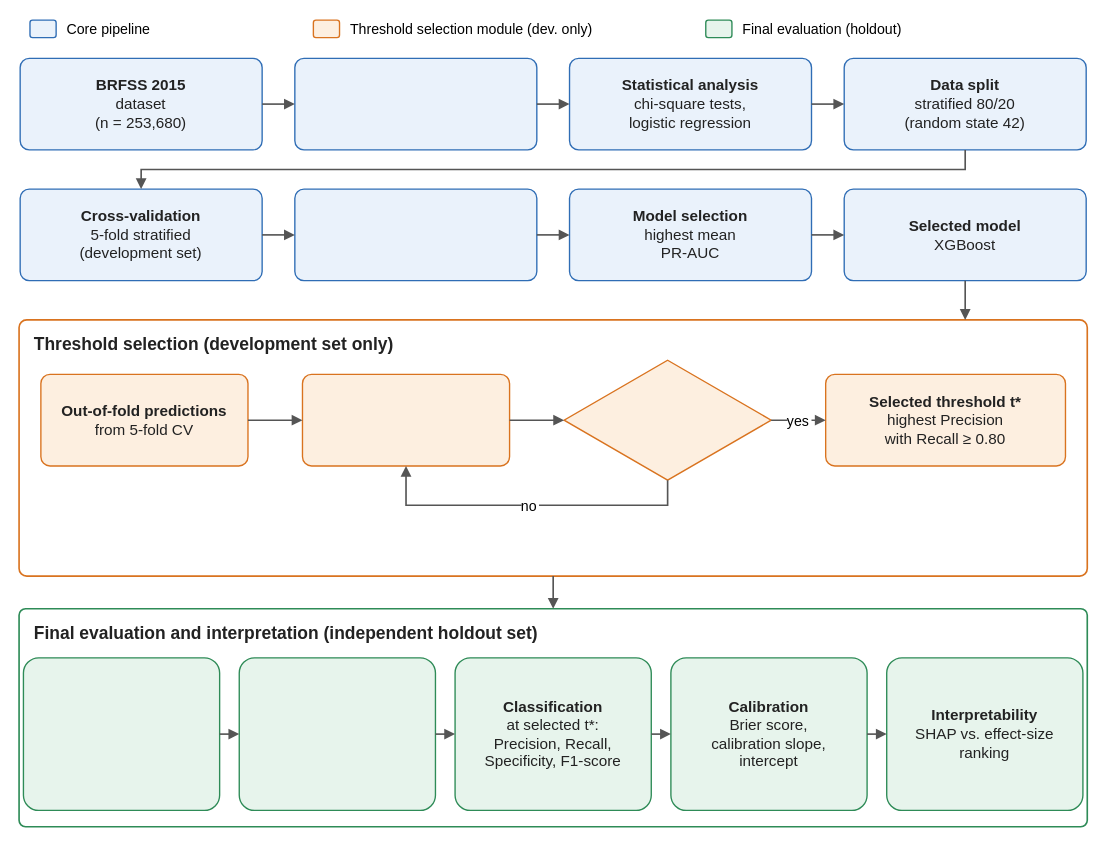
Some shapes in this 1107 by 846 pixel diagram are drawn without their labels. Each missing label, with the centre of its shape:
Candidate models LR, DT, RF, XGBoost: the point at 415,234
Data validation missing values, ranges, targets: the point at 415,103
Discrimination ROC-AUC, PR-AUC (95% bootstrap CI): the point at 337,734
Independent holdout evaluation (20% split, n = 50,736): the point at 121,734
Recall ≥ 0.80?: the point at 667,419
Threshold search 0.01 to 0.99: the point at 405,419
